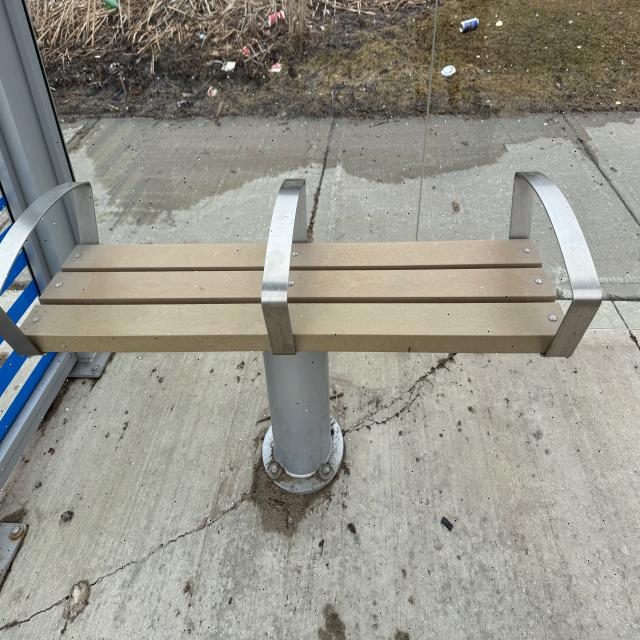Bench: (2, 156, 603, 489)
